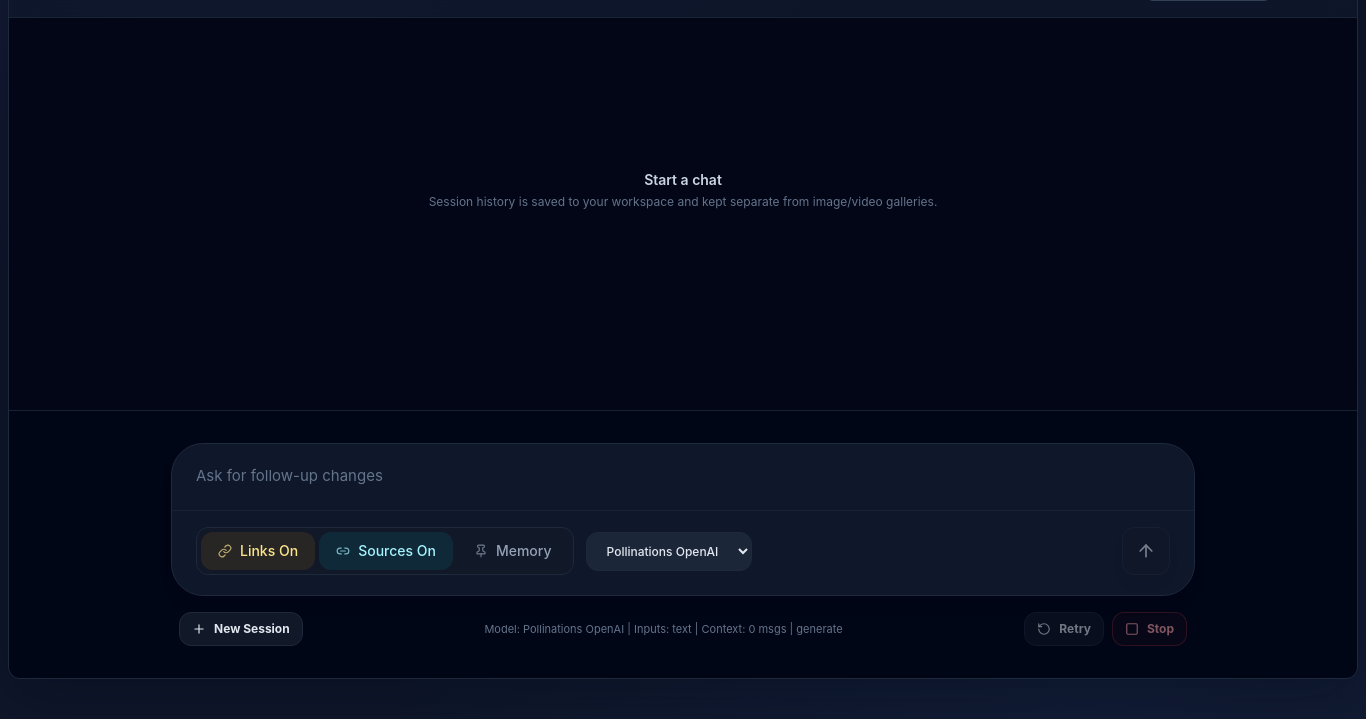
Test case: AIChat formatted-response regressions › keeps retry flow working with markdown assistant responses
(page scrolled)
Step 1. Type "Retry this answer" into the text box with placeholder "Ask for follow-up changes" → (683, 474), box [172, 444, 1194, 504]
Then press Enter
(page scrolled)
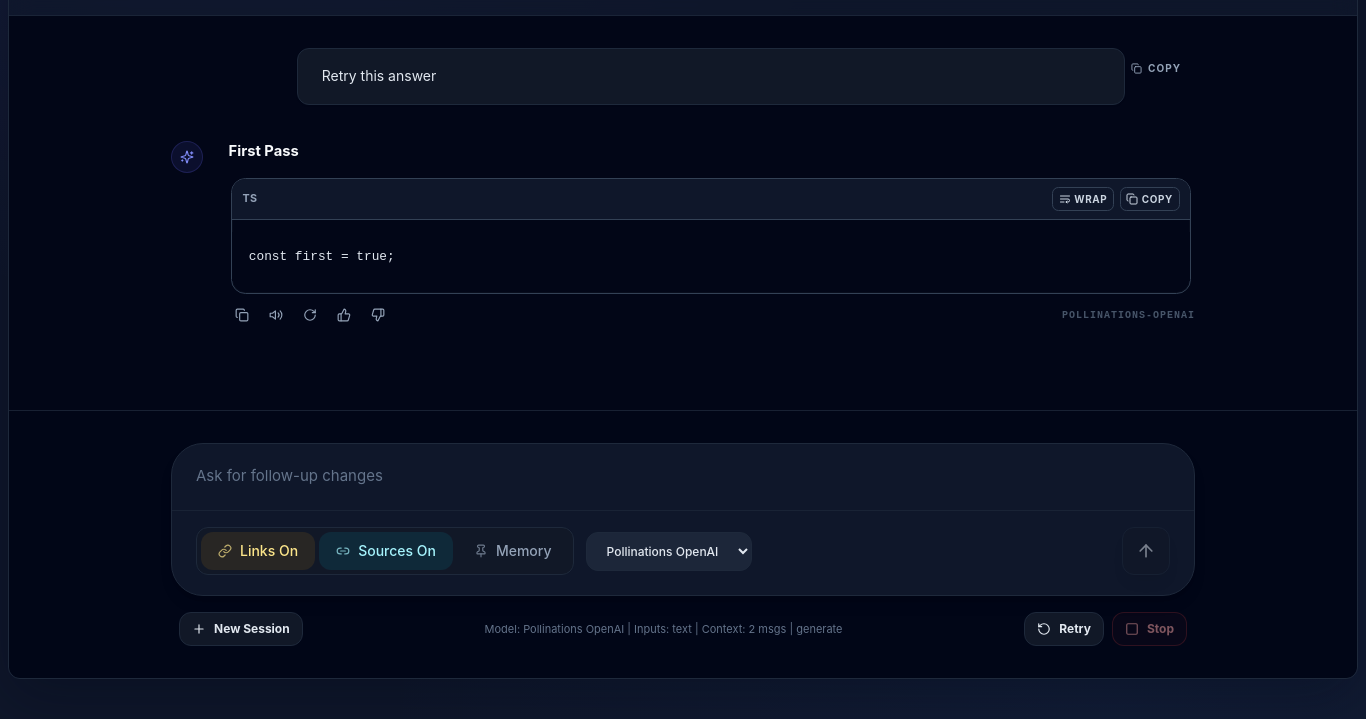
Check: the text "First Pass" is shown, box [229, 142, 299, 160]
Step 2. Click the button "Retry" → click(1064, 629), box [1024, 612, 1104, 646]
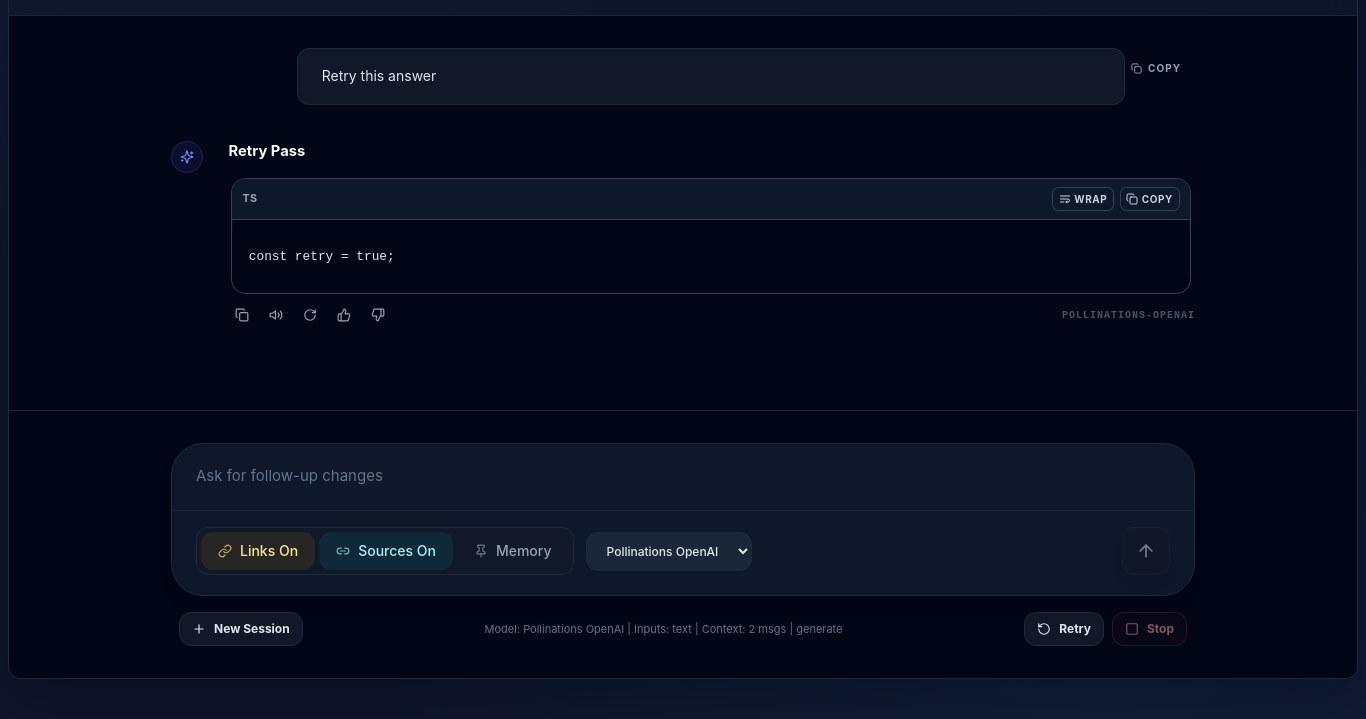
Check: the text "Retry Pass" is shown, box [229, 142, 305, 160]
